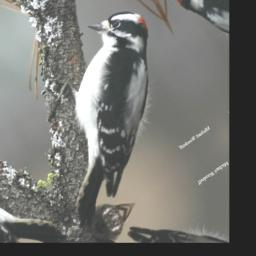Woodpecker: (5, 0, 210, 230)
